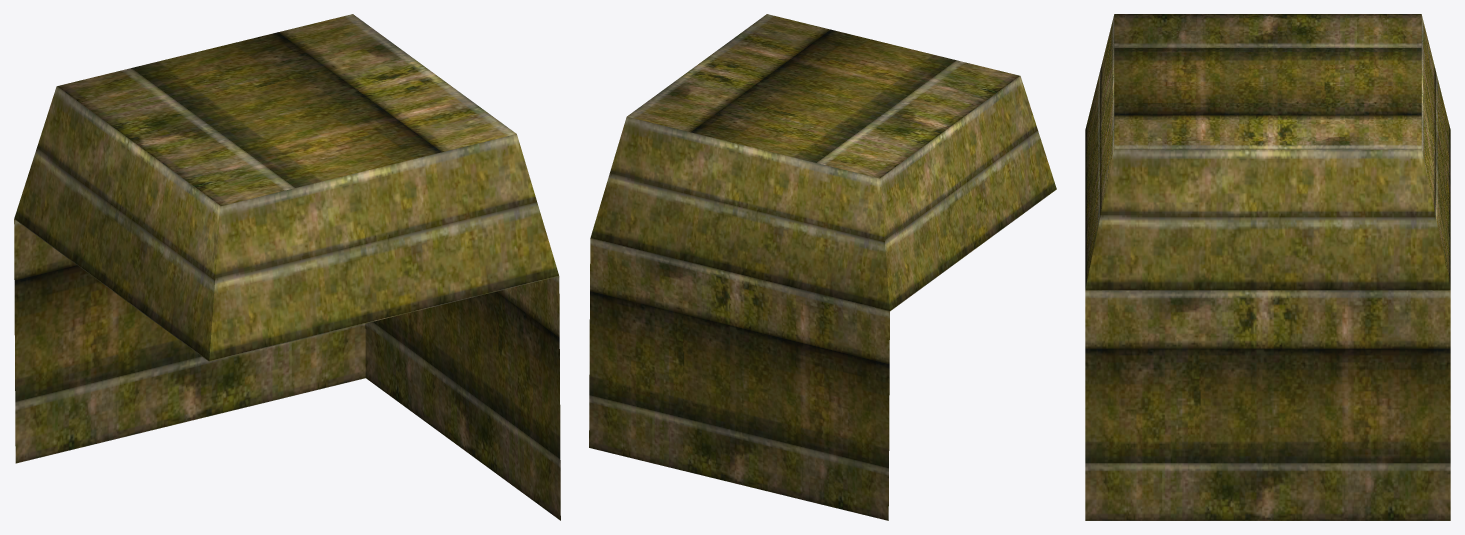
The model's file is OVERHILL_A_01_OBJECT291.fbx.
3 views of the same model, side by side, from view 1: azimuth 30°, elevation 25°; view 2: azimuth 150°, elevation 25°; view 3: azimuth 270°, elevation 25° (orthographic). The views are drawn at different scales.
Parts seen in each view (by area): view 1: OVERHILL_A_01_OBJECT291; view 2: OVERHILL_A_01_OBJECT291; view 3: OVERHILL_A_01_OBJECT291.
Boxes of the visible parts, <box> form: OVERHILL_A_01_OBJECT291: <box>14,14,560,520</box>; OVERHILL_A_01_OBJECT291: <box>589,14,1056,520</box>; OVERHILL_A_01_OBJECT291: <box>1085,14,1450,520</box>.
Bounding box in the file's own units: 11892 × 12361 × 11426.
Materials: 2 (2 with a texture image).
